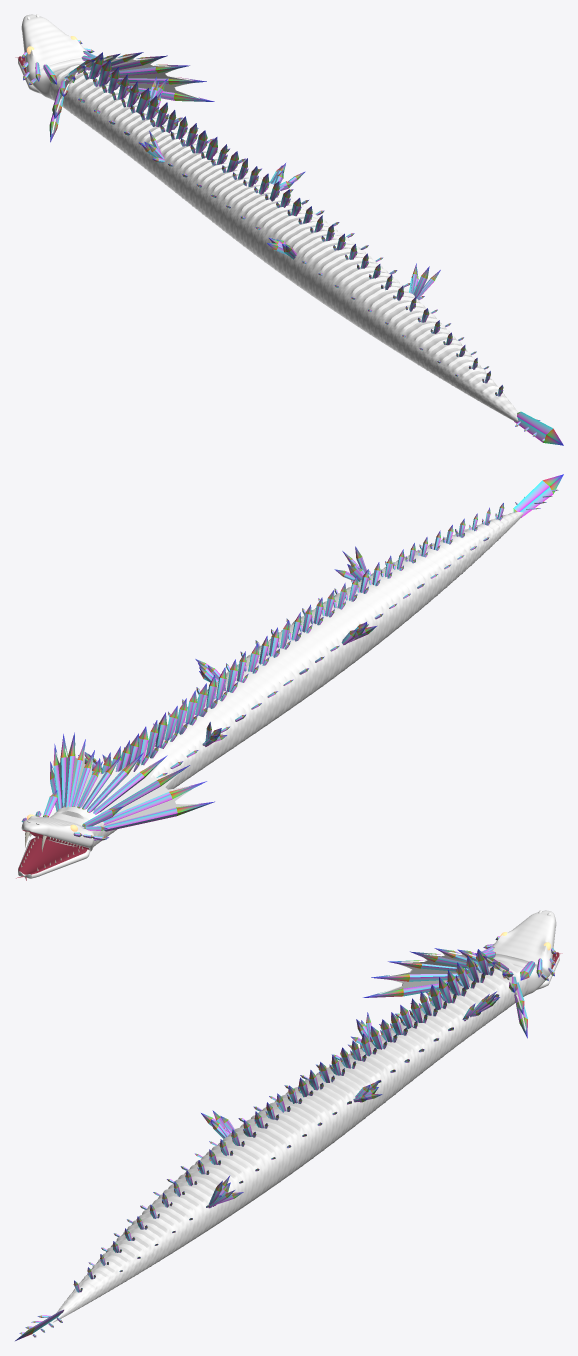
File: RiftSerpent_Flat_Small.fbx
The picture shows the model from 3 angles, top to bottom: view 1: azimuth 30°, elevation 25°; view 2: azimuth 150°, elevation 25°; view 3: azimuth 330°, elevation 25°; orthographic projection.
Visible parts, largest first — view 1: SK_Serpent_Flat_Small; view 2: SK_Serpent_Flat_Small; view 3: SK_Serpent_Flat_Small.
Boxes of the visible parts, <box> form: SK_Serpent_Flat_Small: <box>15,14,563,445</box>; SK_Serpent_Flat_Small: <box>16,474,563,880</box>; SK_Serpent_Flat_Small: <box>15,910,562,1340</box>.
Size of the model in its own units: 0.3519 by 0.1354 by 2.
